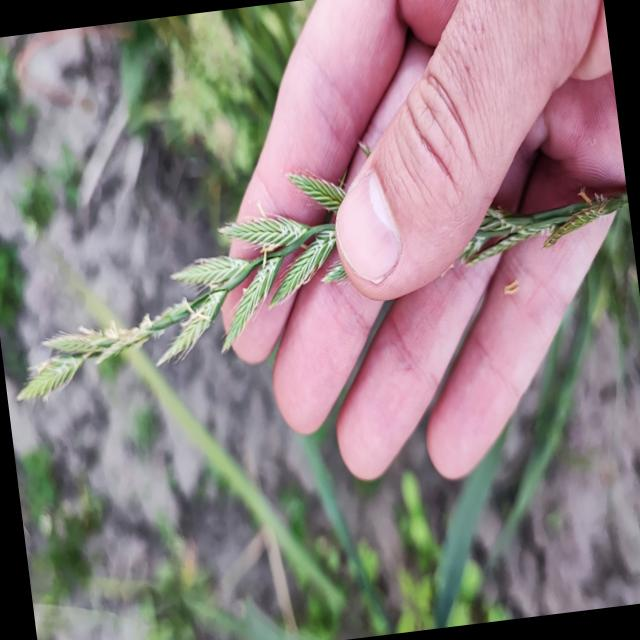Lolium: (0, 79, 640, 504)
